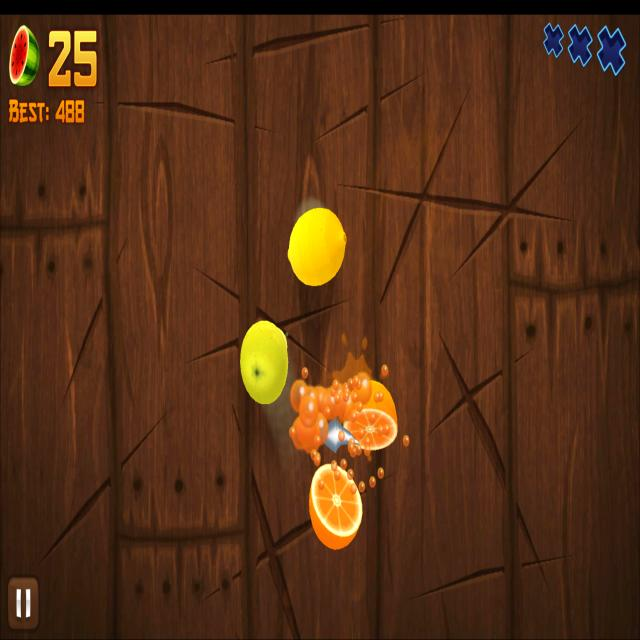fruit: (287, 208, 347, 288), (239, 319, 289, 404)
